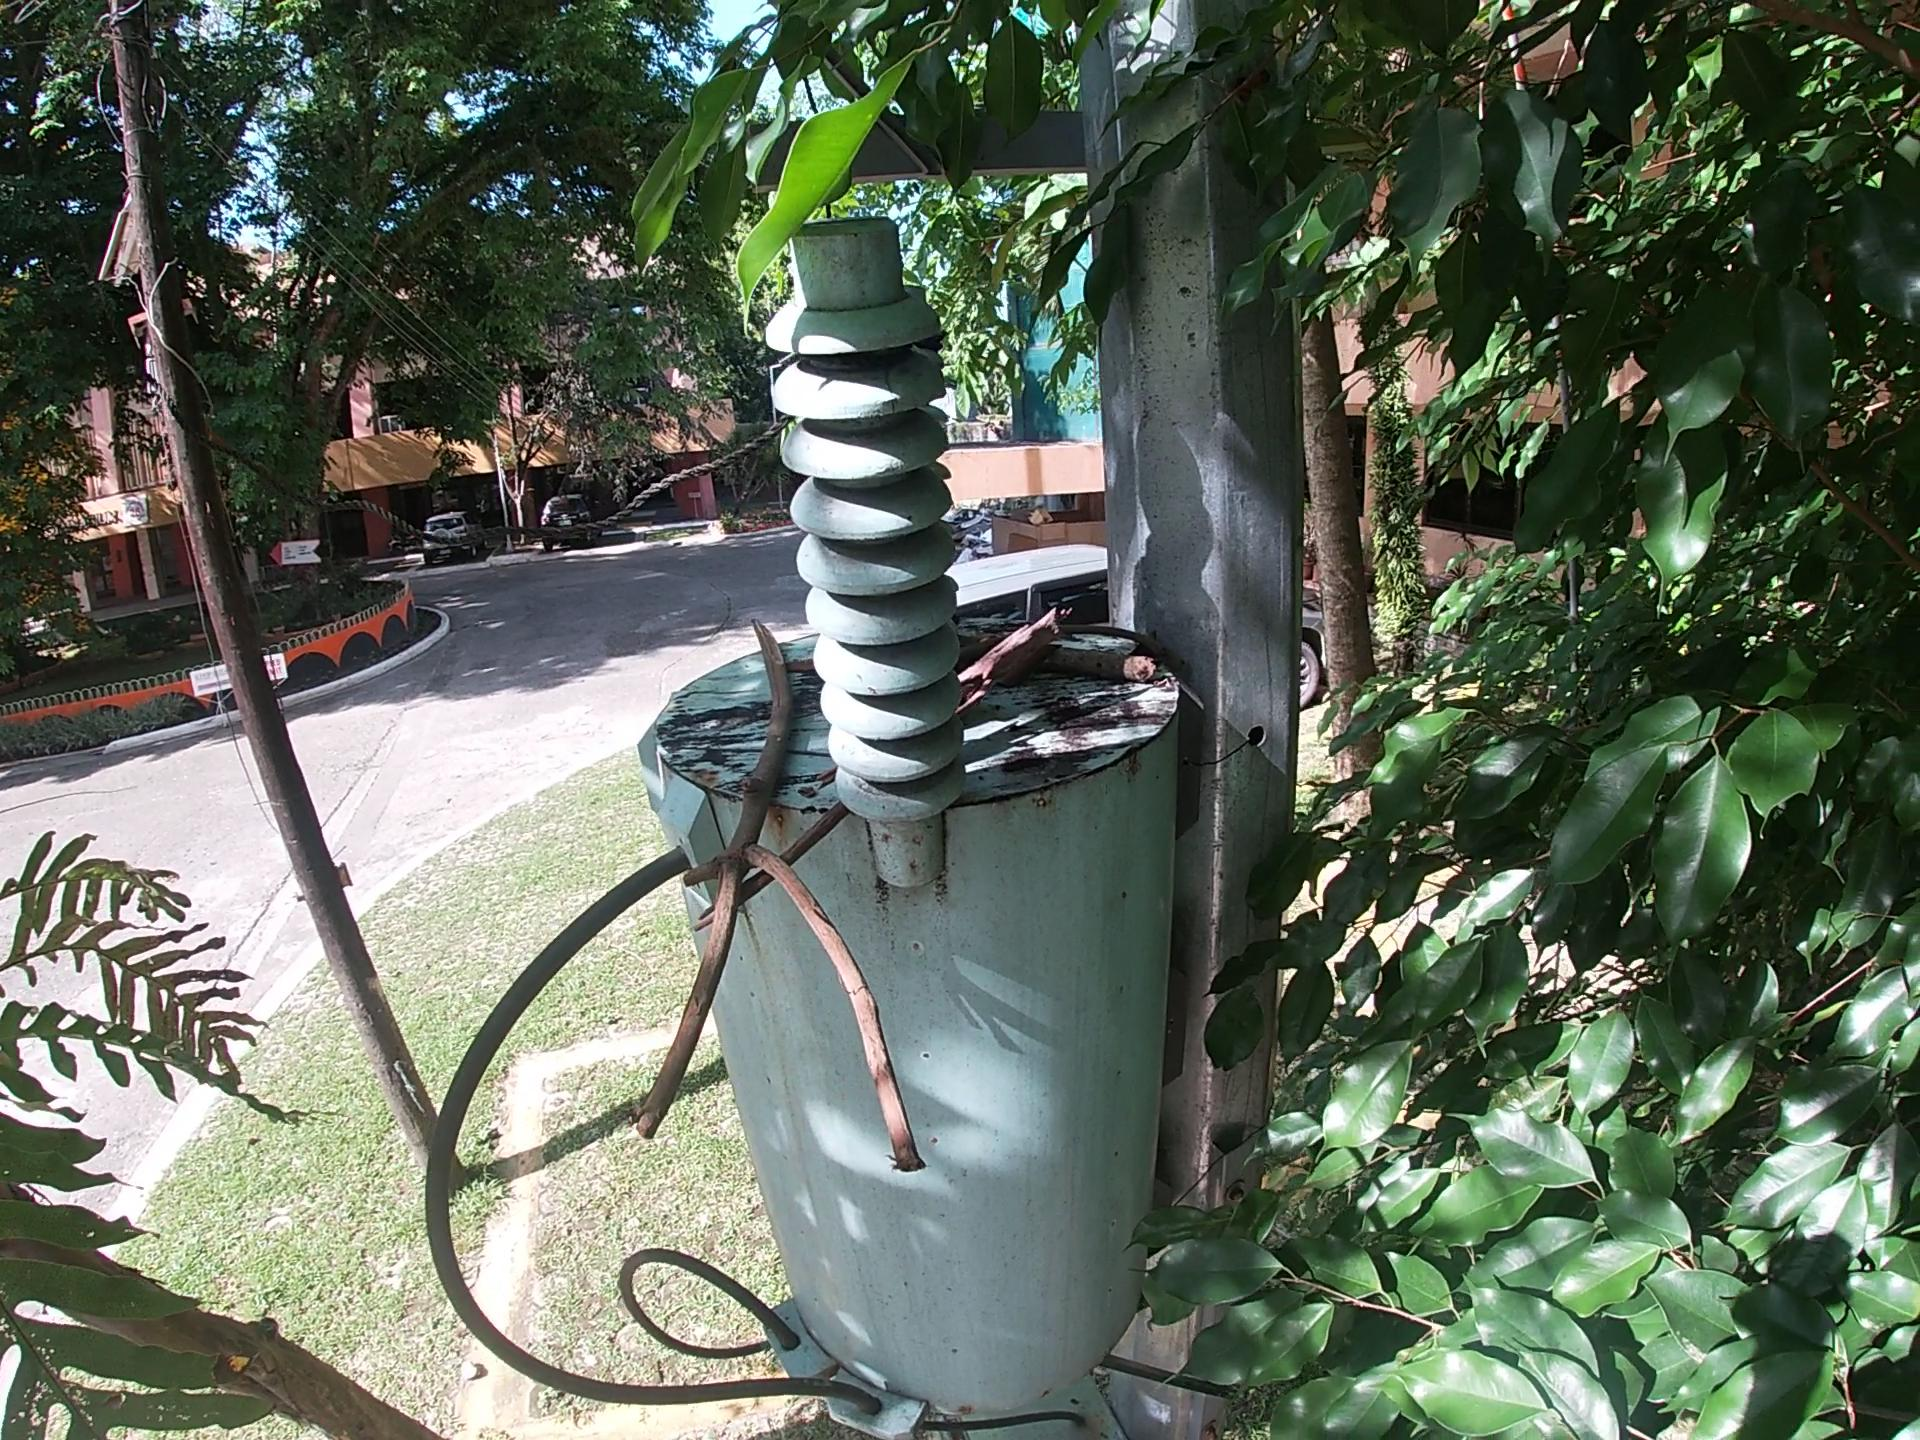tree branch: (624, 579, 915, 1212), (949, 601, 1079, 703), (1036, 646, 1172, 690), (1063, 619, 1197, 653), (962, 625, 998, 663)
